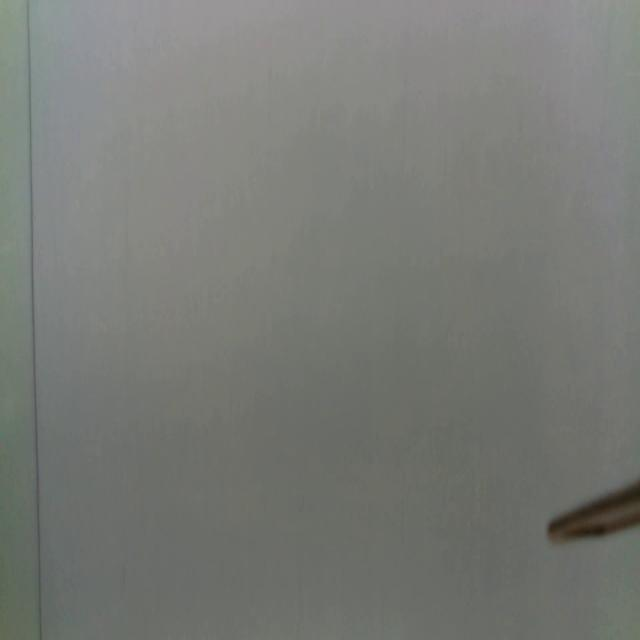crease: (26, 0, 44, 640)
